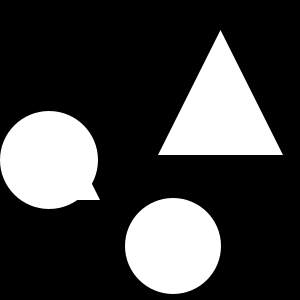rectangle: (0, 111, 98, 209), (125, 198, 221, 294)
triangle: (158, 30, 283, 155), (72, 172, 100, 200), (59, 166, 86, 193)
